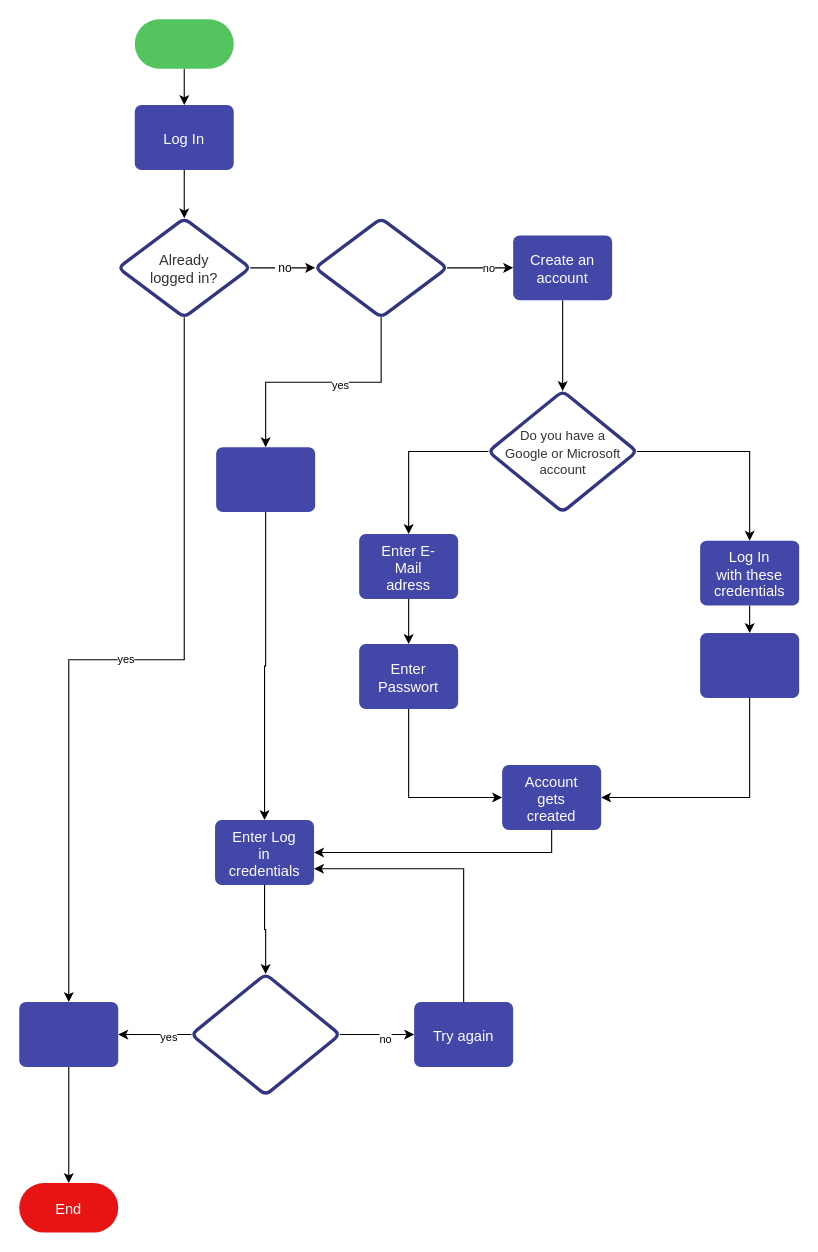
This 818x1252 diagram has some shape labels left out. Here are the shapes that lost their labels. From the top down, the centre of each, then its label:
At point 184,43: "start".
At point 380,267: "Do you have an account?".
At point 265,479: "Show landing page".
At point 749,665: "Account gets connected to our website".
At point 68,1034: "Show 3-D-Modell Page".
At point 265,1034: "Entered right credentials".
